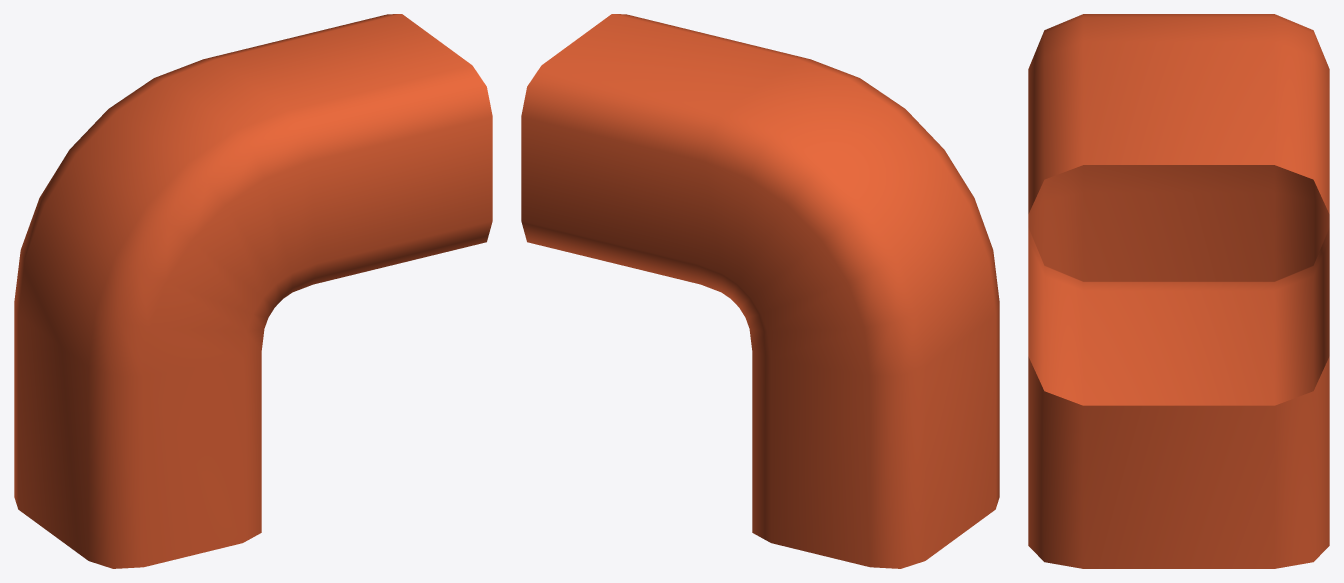
File: BoardBorder_1B.fbx
The picture shows the model from 3 angles, left to right: view 1: azimuth 30°, elevation 25°; view 2: azimuth 150°, elevation 25°; view 3: azimuth 270°, elevation 25°; orthographic projection. The views are drawn at different scales.
Visible parts, largest first — view 1: BoardBorder_1B; view 2: BoardBorder_1B; view 3: BoardBorder_1B.
Boxes of the visible parts, left/top/right/bottom form: BoardBorder_1B: left=14, top=14, right=492, bottom=568; BoardBorder_1B: left=521, top=14, right=999, bottom=568; BoardBorder_1B: left=1028, top=14, right=1329, bottom=568.
Bounding box in the file's own units: 0.9 × 0.9 × 0.45.
